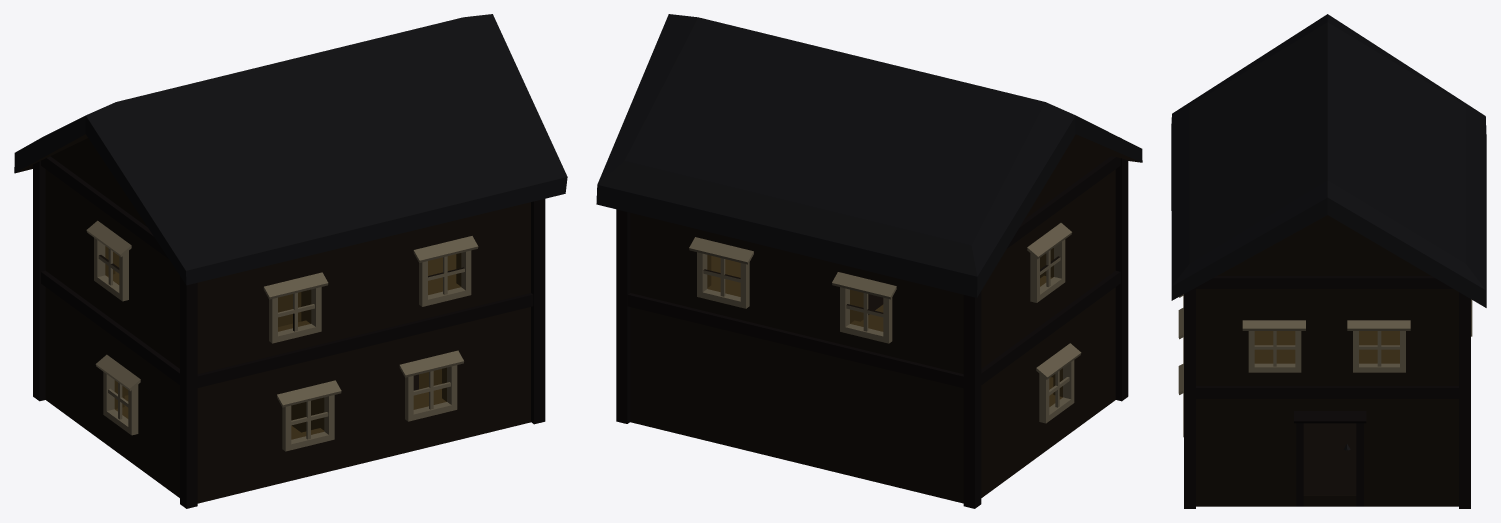
Rendered from Village_Apartment_Small_3.fbx.
The picture shows the model from 3 angles, left to right: view 1: azimuth 30°, elevation 25°; view 2: azimuth 150°, elevation 25°; view 3: azimuth 270°, elevation 25°; orthographic projection. The views are drawn at different scales.
Visible parts, largest first — view 1: Village_Apartment_Small_3; view 2: Village_Apartment_Small_3; view 3: Village_Apartment_Small_3.
Boxes of the visible parts, bbox=[...] form: Village_Apartment_Small_3: bbox=[14, 14, 567, 508]; Village_Apartment_Small_3: bbox=[596, 14, 1142, 508]; Village_Apartment_Small_3: bbox=[1171, 14, 1486, 508].
Bounding box in the file's own units: 1215 × 997 × 873.
